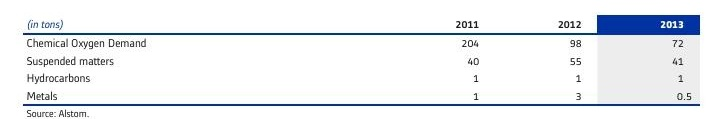table: (0, 0, 719, 119)
